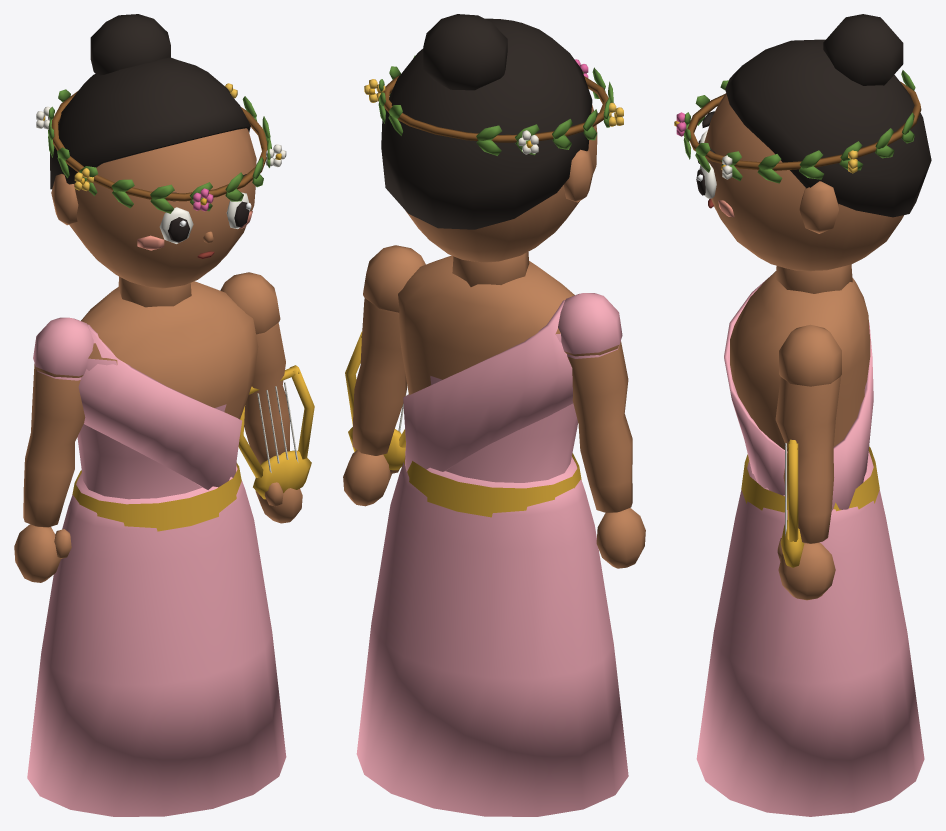
Rendered from terpsichore.glb.
The picture shows the model from 3 angles, left to right: view 1: azimuth 30°, elevation 25°; view 2: azimuth 150°, elevation 25°; view 3: azimuth 270°, elevation 25°; orthographic projection. The views are drawn at different scales.
Parts seen in each view (by area): view 1: huefte, rumpf, kopf, haare, armL, armR, kopfschmuck, itemR, augeL, augeR; view 2: huefte, rumpf, haare, armL, armR, kopf, kopfschmuck, itemR; view 3: huefte, haare, rumpf, kopf, armR, kopfschmuck, itemR, augeR.
Boxes of the visible parts, <box> form: huefte: <box>27,465,286,816</box>; rumpf: <box>72,281,258,531</box>; kopf: <box>51,128,256,307</box>; haare: <box>50,14,250,189</box>; armL: <box>14,317,93,582</box>; armR: <box>220,272,302,523</box>; kopfschmuck: <box>36,83,286,213</box>; itemR: <box>238,365,314,499</box>; augeL: <box>159,207,193,243</box>; augeR: <box>226,192,251,228</box>; huefte: <box>356,456,628,816</box>; rumpf: <box>398,255,581,517</box>; haare: <box>381,14,592,229</box>; armL: <box>558,293,645,568</box>; armR: <box>343,245,425,506</box>; kopf: <box>406,104,597,286</box>; kopfschmuck: <box>364,55,623,155</box>; itemR: <box>345,331,407,470</box>; huefte: <box>696,451,924,816</box>; haare: <box>725,14,931,217</box>; rumpf: <box>724,271,879,512</box>; kopf: <box>704,93,903,293</box>; armR: <box>775,324,841,600</box>; kopfschmuck: <box>674,70,921,183</box>; itemR: <box>781,439,804,567</box>; augeR: <box>696,162,716,198</box>.
Bounding box in the file's own units: 0.9591 × 2.36 × 0.7336.
